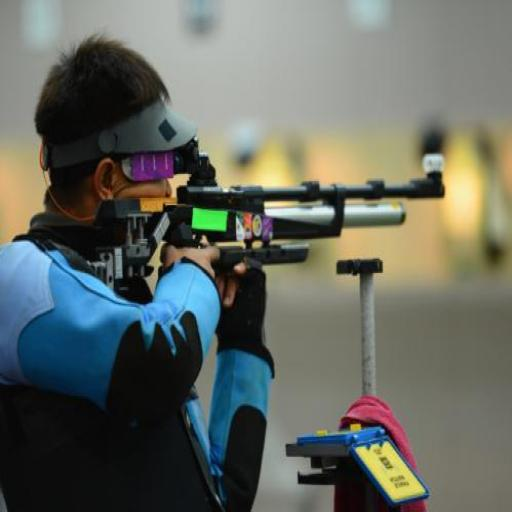shooting: (0, 32, 277, 510)
